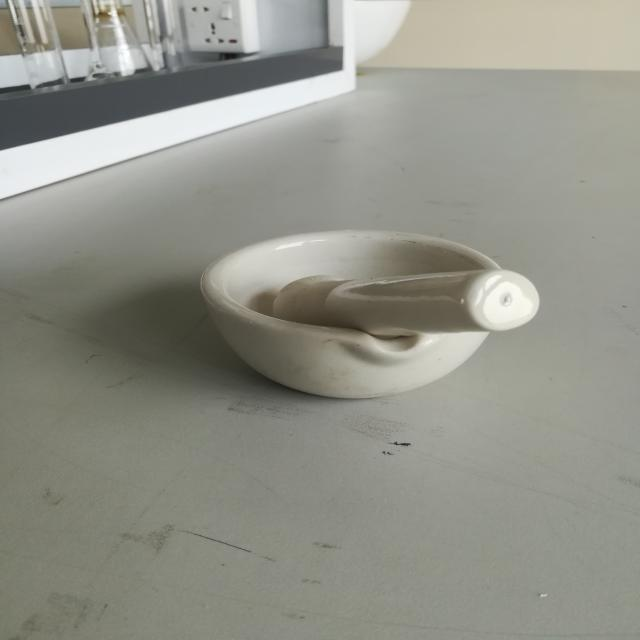Porcelain_Mortar Pestle: (132, 158, 600, 453)
